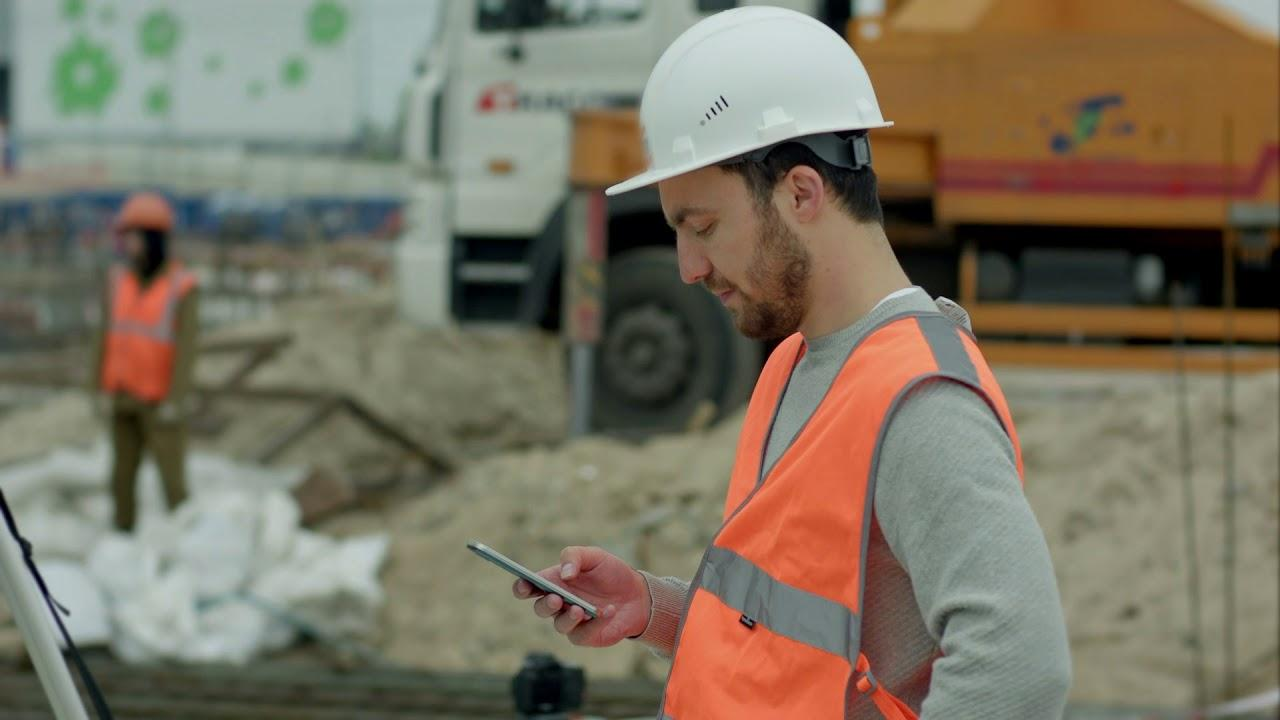helmet: (608, 10, 889, 194)
